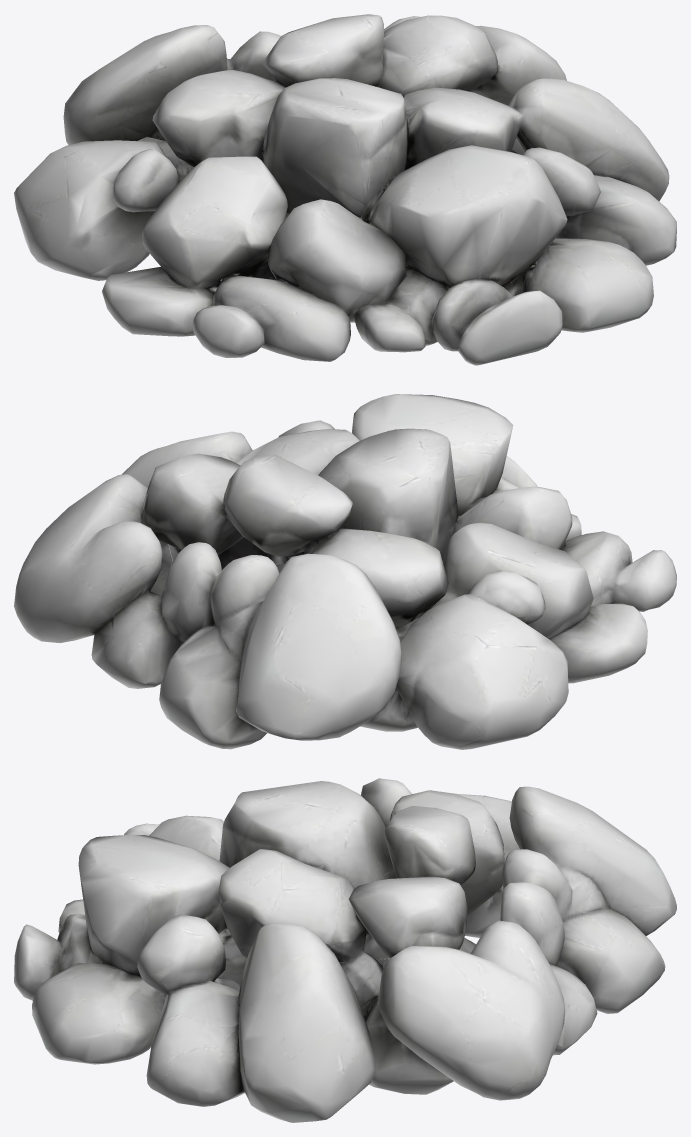
Rendered from beach_rock.glb.
The picture shows the model from 3 angles, top to bottom: view 1: azimuth 30°, elevation 25°; view 2: azimuth 150°, elevation 25°; view 3: azimuth 270°, elevation 25°; orthographic projection. The views are drawn at different scales.
Bounding box in the file's own units: 1.83 × 0.6463 × 1.91.
1 material, 1 textured.
